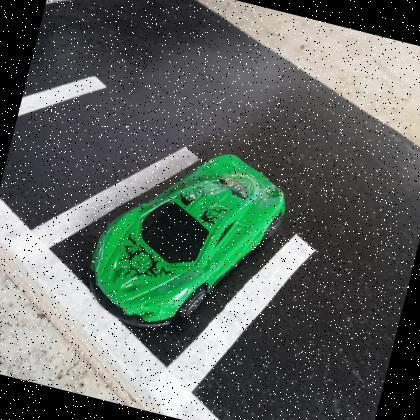Car: (88, 154, 284, 327)
